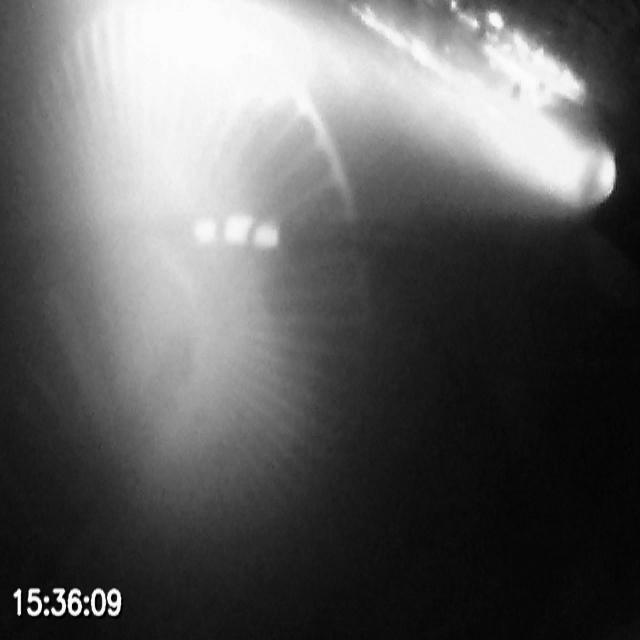white-dots: (190, 213, 280, 250)
